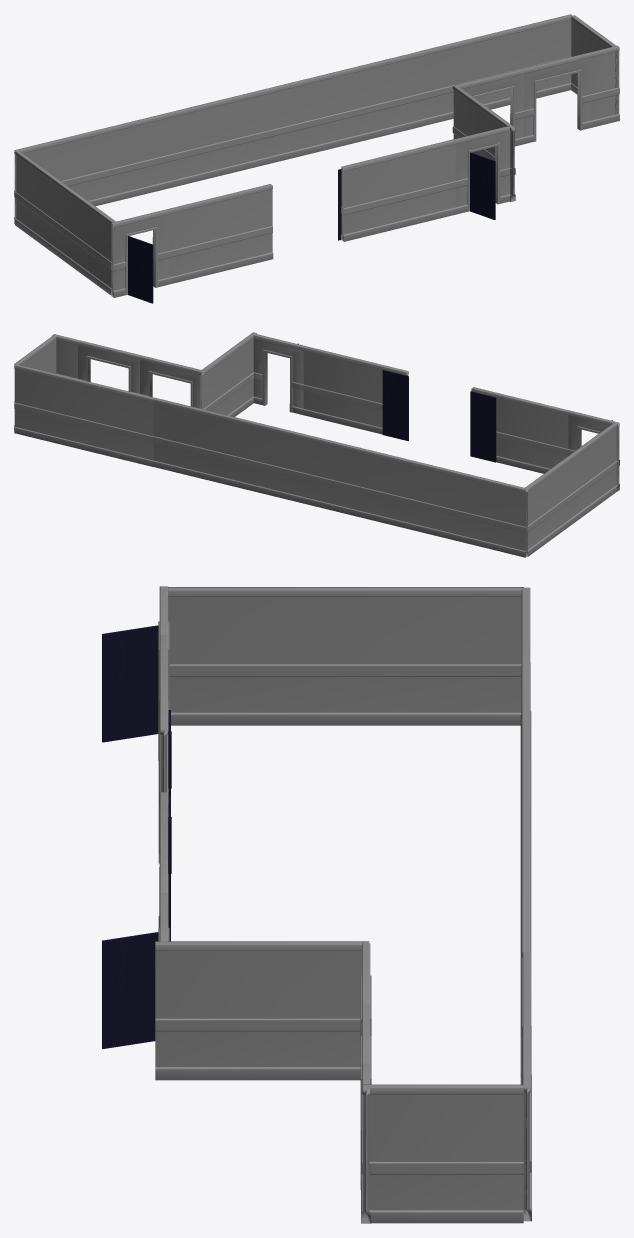
File: vogndepotkaelder.glb
3 views of the same model, one above another, from view 1: azimuth 30°, elevation 25°; view 2: azimuth 150°, elevation 25°; view 3: azimuth 270°, elevation 25° (orthographic). The views are drawn at different scales.
Visible parts, largest first — view 1: SM_VogndepotNF; view 2: SM_VogndepotNF; view 3: SM_VogndepotNF.
Boxes of the visible parts, box(x1,y1,x2,y2) form: SM_VogndepotNF: box(14, 14, 619, 303); SM_VogndepotNF: box(14, 332, 619, 557); SM_VogndepotNF: box(102, 586, 531, 1223).
Size of the model in its own units: 20 by 2.51 by 7.23.
